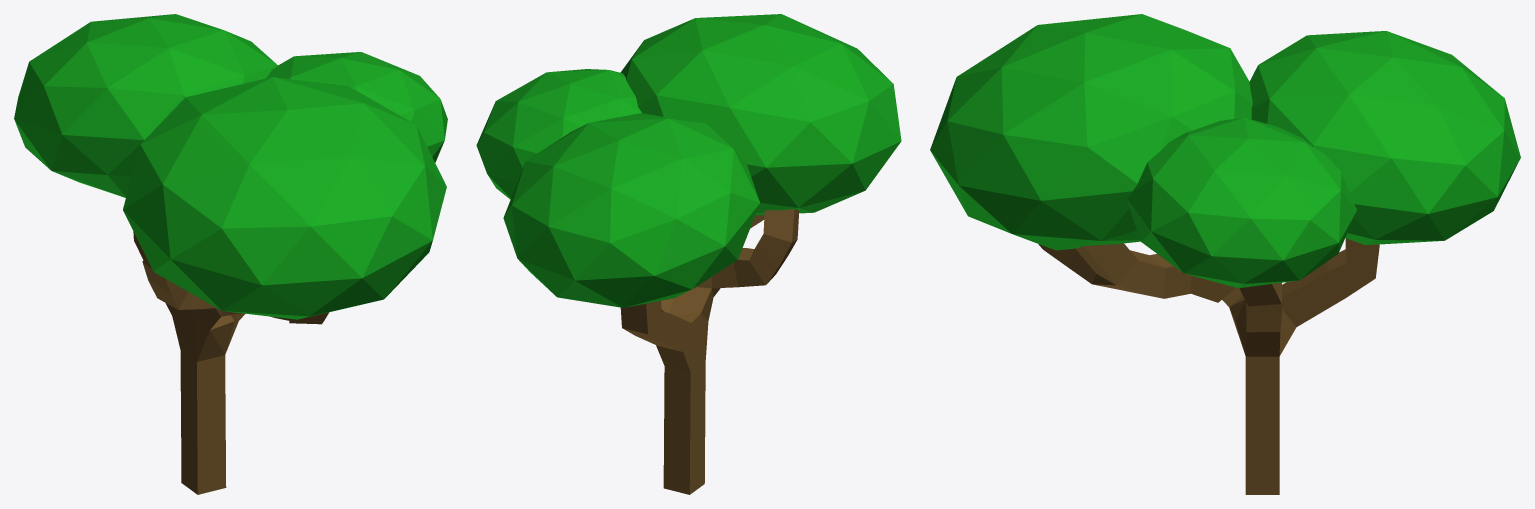
Rendered from Tree_02.fbx.
3 views of the same model, side by side, from view 1: azimuth 30°, elevation 25°; view 2: azimuth 150°, elevation 25°; view 3: azimuth 270°, elevation 25° (orthographic). The views are drawn at different scales.
Parts seen in each view (by area): view 1: Cylinder; view 2: Cylinder; view 3: Cylinder.
Boxes of the visible parts, x1,y1,x2,y2 form: Cylinder: (14, 14, 447, 494); Cylinder: (476, 14, 901, 494); Cylinder: (930, 14, 1520, 494).
Size of the model in its own units: 625 by 739 by 872.
